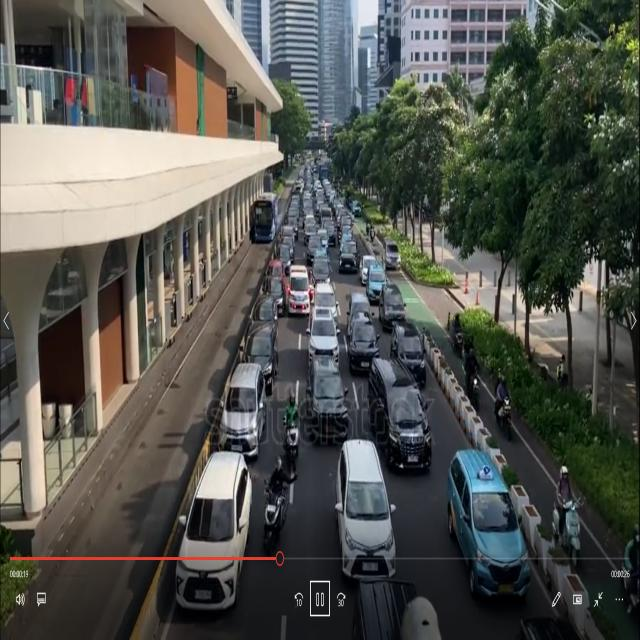Ambulance: (286, 260, 310, 318)
